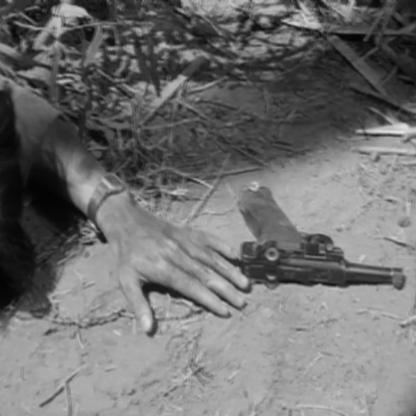gun: (224, 163, 416, 307)
